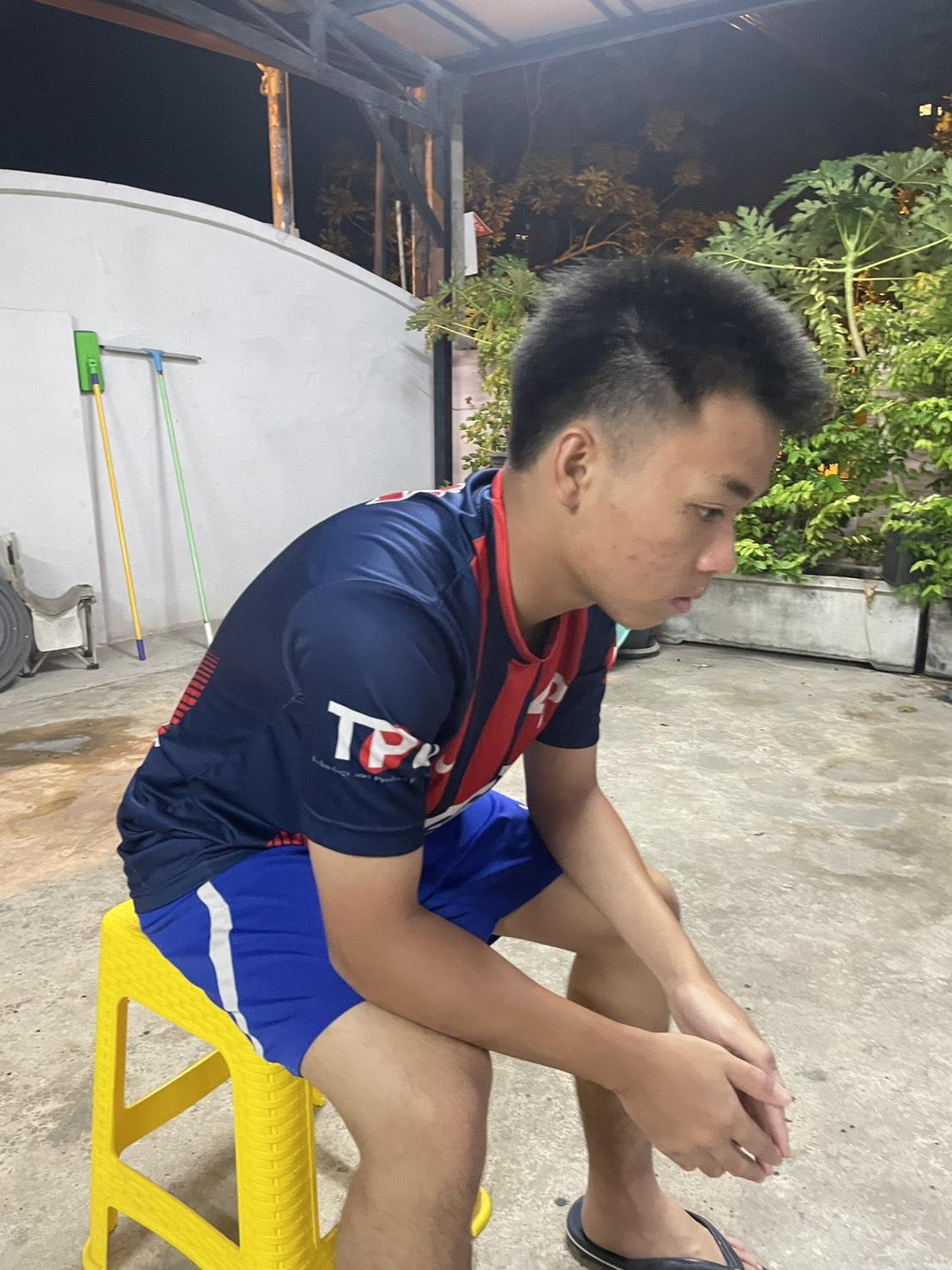BadPosture: (117, 256, 827, 1069)
